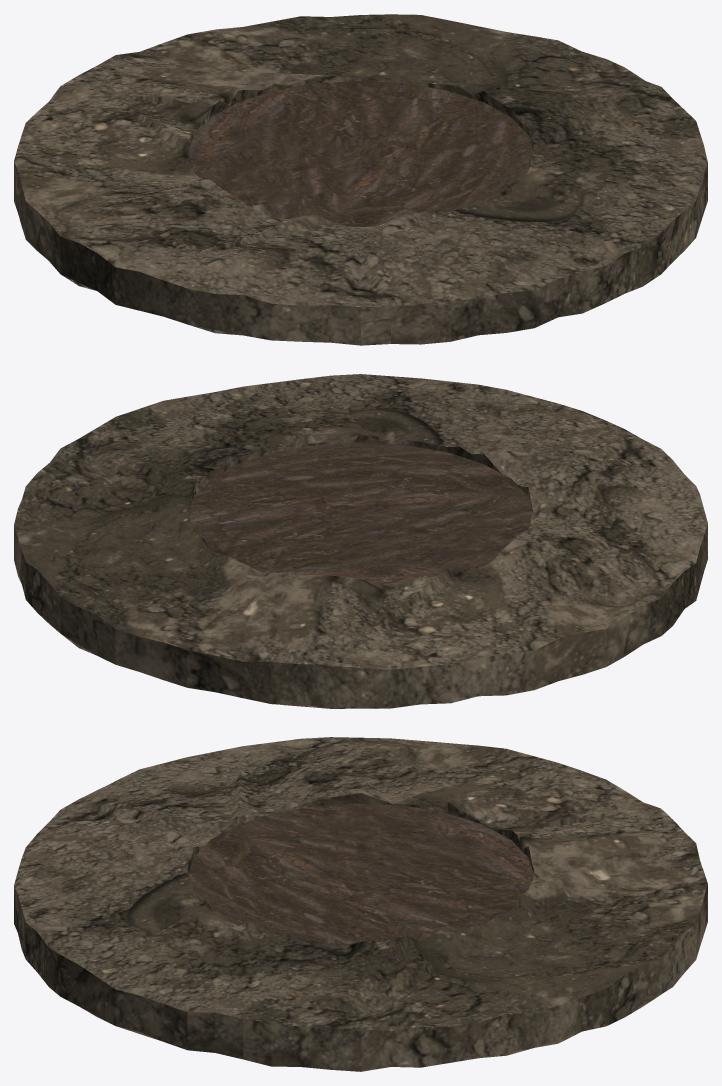
Rendered from spider_hole.glb.
3 renders of one model, top to bottom at view 1: azimuth 30°, elevation 25°; view 2: azimuth 150°, elevation 25°; view 3: azimuth 270°, elevation 25°, orthographic.
Visible parts, largest first — view 1: Ground, Lid; view 2: Ground, Lid; view 3: Ground, Lid.
Part boxes in pixels (box(x1,y1,x2,y2)): Ground: box(14, 14, 707, 345); Lid: box(188, 81, 533, 226); Ground: box(14, 374, 707, 708); Lid: box(188, 442, 533, 586); Ground: box(14, 737, 707, 1071); Lid: box(188, 803, 533, 944).
Size of the model in its own units: 1.6 by 0.1542 by 1.6.
3 materials, 2 textured.
